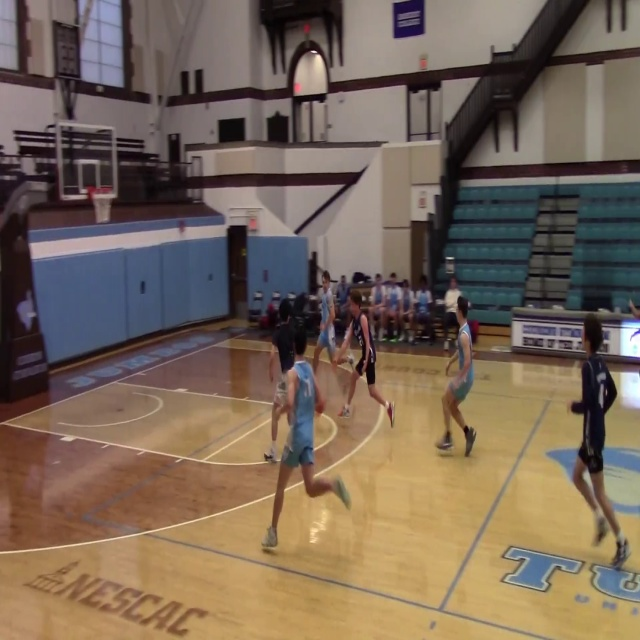Basketball: (315, 396, 326, 414), (346, 354, 354, 364)
